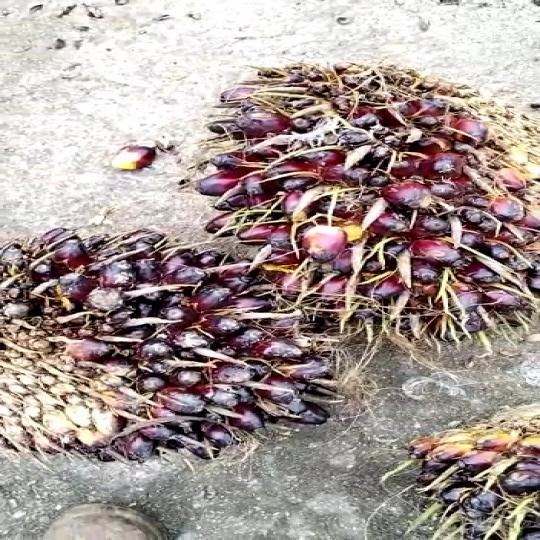kurang masak: (179, 46, 540, 346), (0, 205, 332, 477)
